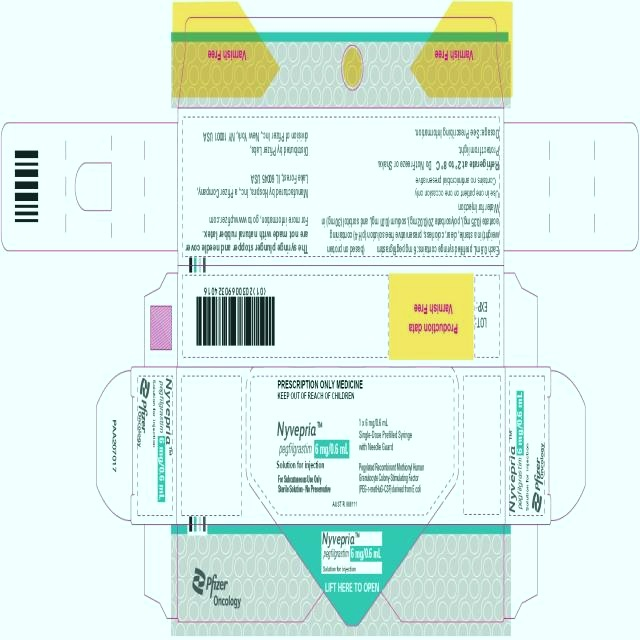Artwork: (0, 0, 640, 640)
Back_Panel: (178, 108, 504, 265)
Bottom_Part: (505, 366, 551, 525)
Extra_Areas: (172, 5, 511, 109), (0, 120, 178, 253), (504, 121, 639, 253), (171, 622, 513, 638), (95, 370, 131, 522), (551, 367, 586, 522), (504, 270, 539, 366), (143, 525, 178, 620), (144, 271, 178, 368), (504, 525, 538, 620)
Front_Panel: (177, 367, 506, 524)
Side_Panel: (178, 266, 504, 366), (178, 524, 504, 621)
Top_Panel: (131, 367, 177, 525)
